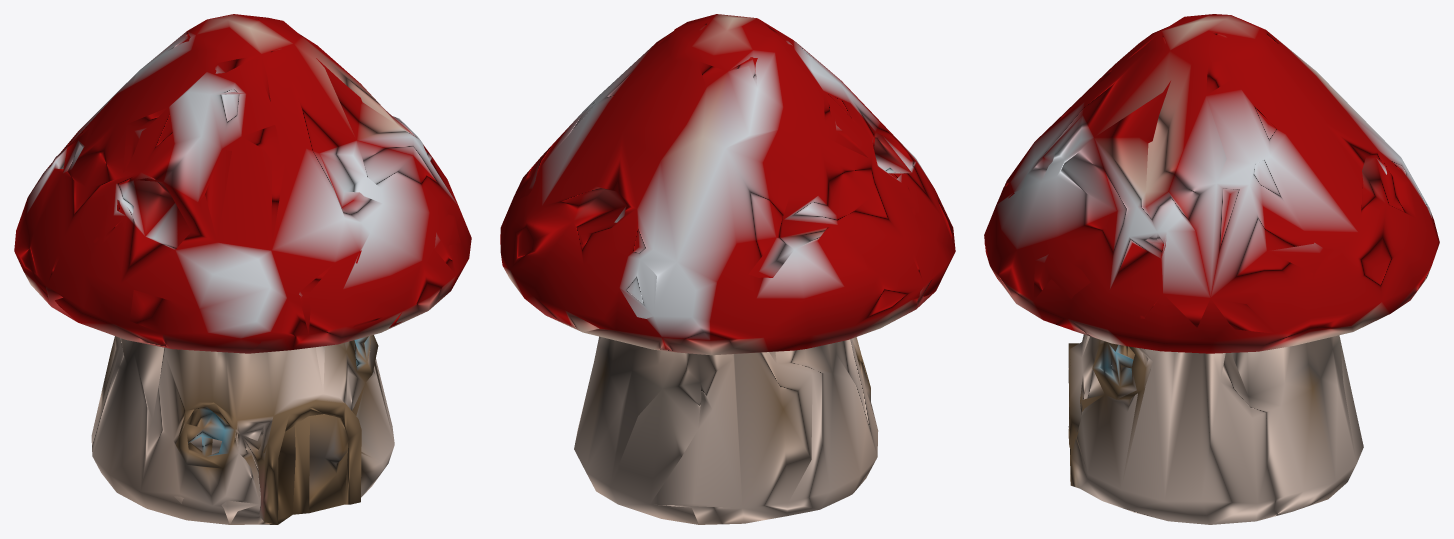
The model's file is gen3d-mushroom-house-lod1.glb.
3 renders of one model, left to right at view 1: azimuth 30°, elevation 25°; view 2: azimuth 150°, elevation 25°; view 3: azimuth 270°, elevation 25°, orthographic.
Visible parts, largest first — view 1: part_0; view 2: part_0; view 3: part_0.
Part boxes in pixels (box(x1,y1,x2,y2)): part_0: box(14, 14, 471, 524); part_0: box(500, 14, 955, 524); part_0: box(984, 14, 1439, 524).
Size of the model in its own units: 0.9339 by 0.9998 by 0.9338.
